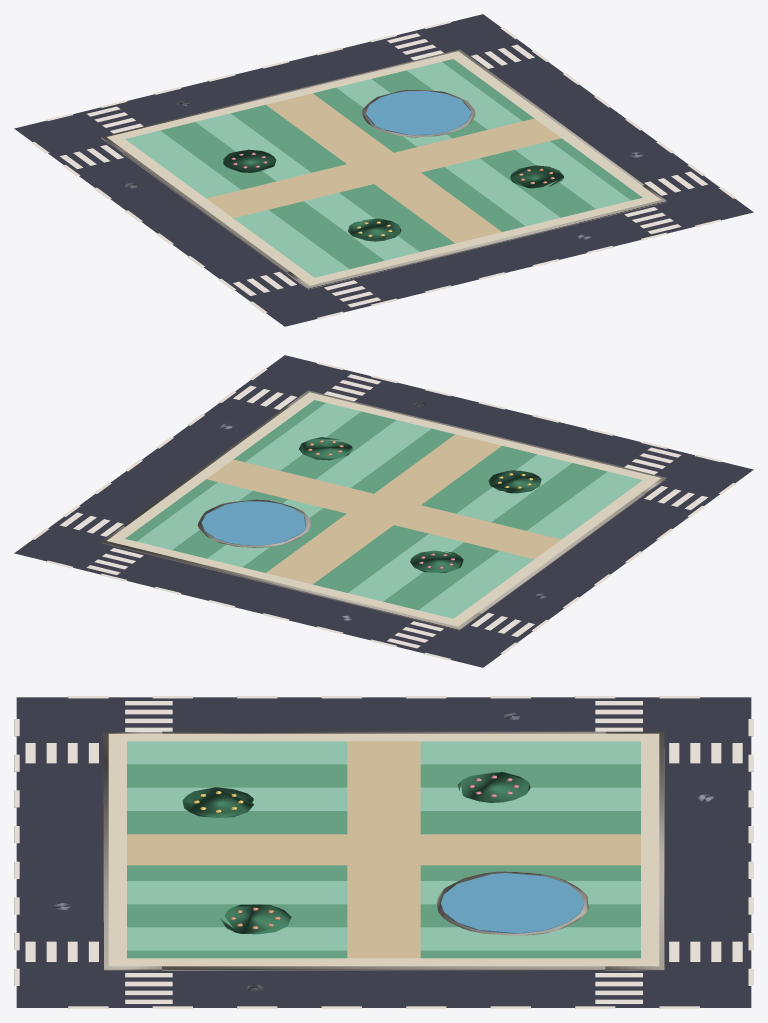
The model's file is tile_park.glb.
3 renders of one model, top to bottom at view 1: azimuth 30°, elevation 25°; view 2: azimuth 150°, elevation 25°; view 3: azimuth 270°, elevation 25°, orthographic. The views are drawn at different scales.
Visible parts, largest first — view 1: tile_park; view 2: tile_park; view 3: tile_park.
Part boxes in pixels (x1=…): tile_park: x1=14, y1=14, x2=753, y2=326; tile_park: x1=14, y1=355, x2=753, y2=667; tile_park: x1=14, y1=696, x2=753, y2=1008.
Bounding box in the file's own units: 40.3 × 0.2853 × 40.3.
Materials: 1 (1 with a texture image).
